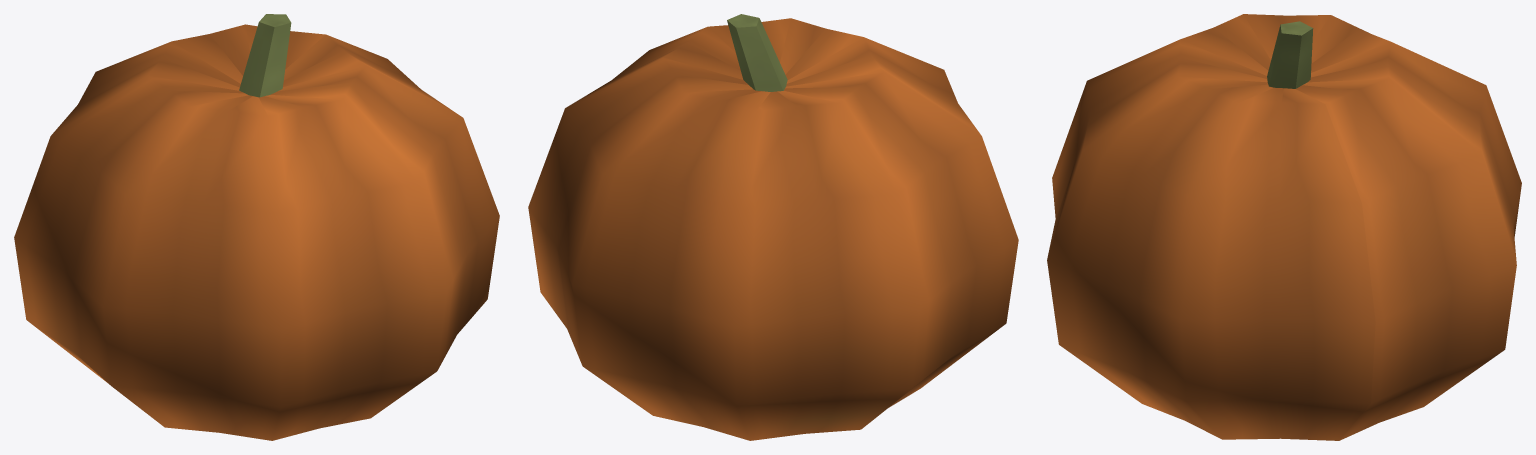
File: produce_pumpkin.obj
3 views of the same model, side by side, from view 1: azimuth 30°, elevation 25°; view 2: azimuth 150°, elevation 25°; view 3: azimuth 270°, elevation 25° (orthographic). The views are drawn at different scales.
Visible parts, largest first — view 1: produce_pumpkin; view 2: produce_pumpkin; view 3: produce_pumpkin.
Part boxes in pixels (bbox=[...]): produce_pumpkin: bbox=[14, 14, 499, 440]; produce_pumpkin: bbox=[528, 14, 1018, 440]; produce_pumpkin: bbox=[1047, 14, 1521, 440].
Size of the model in its own units: 0.3361 by 0.2952 by 0.3361.
1 material, 1 textured.
